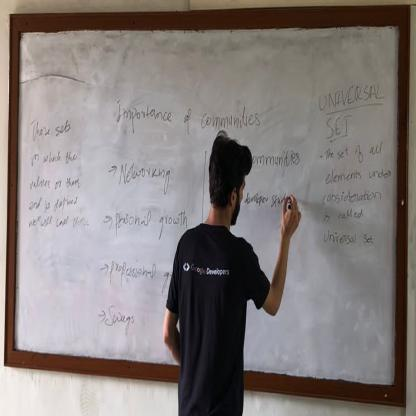Handwritten text: (110, 95, 266, 137), (109, 251, 173, 298), (115, 208, 190, 246), (118, 158, 177, 199), (316, 76, 389, 108), (317, 134, 386, 164), (247, 141, 303, 176), (322, 224, 378, 259), (28, 212, 91, 242), (29, 108, 78, 145), (24, 144, 84, 171), (246, 183, 288, 221), (326, 165, 393, 188), (321, 183, 384, 205), (26, 173, 81, 197), (105, 296, 136, 337), (26, 194, 82, 212), (320, 206, 369, 224), (324, 112, 352, 141)
Lecturer: (167, 131, 270, 411)
Whiteboard: (11, 14, 403, 392)
